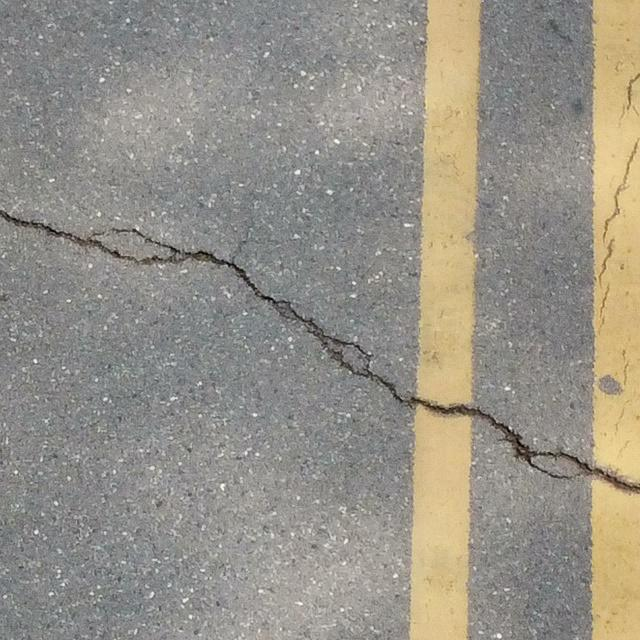TransverseCrack: (1, 211, 640, 495)
